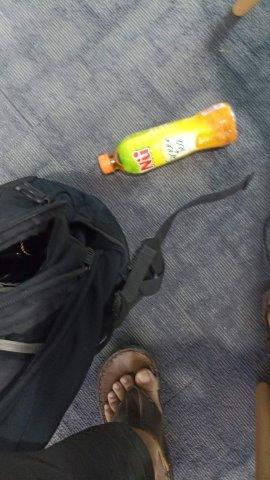botolplastik: (97, 103, 236, 174)
